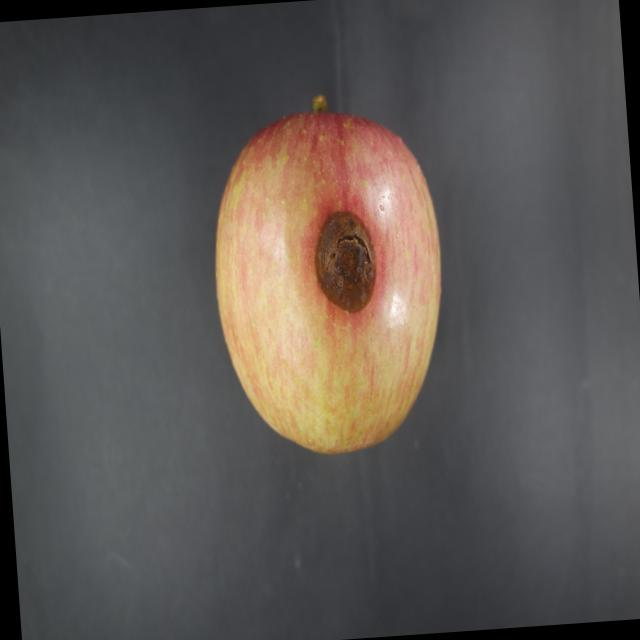rotten: (196, 86, 465, 472)
